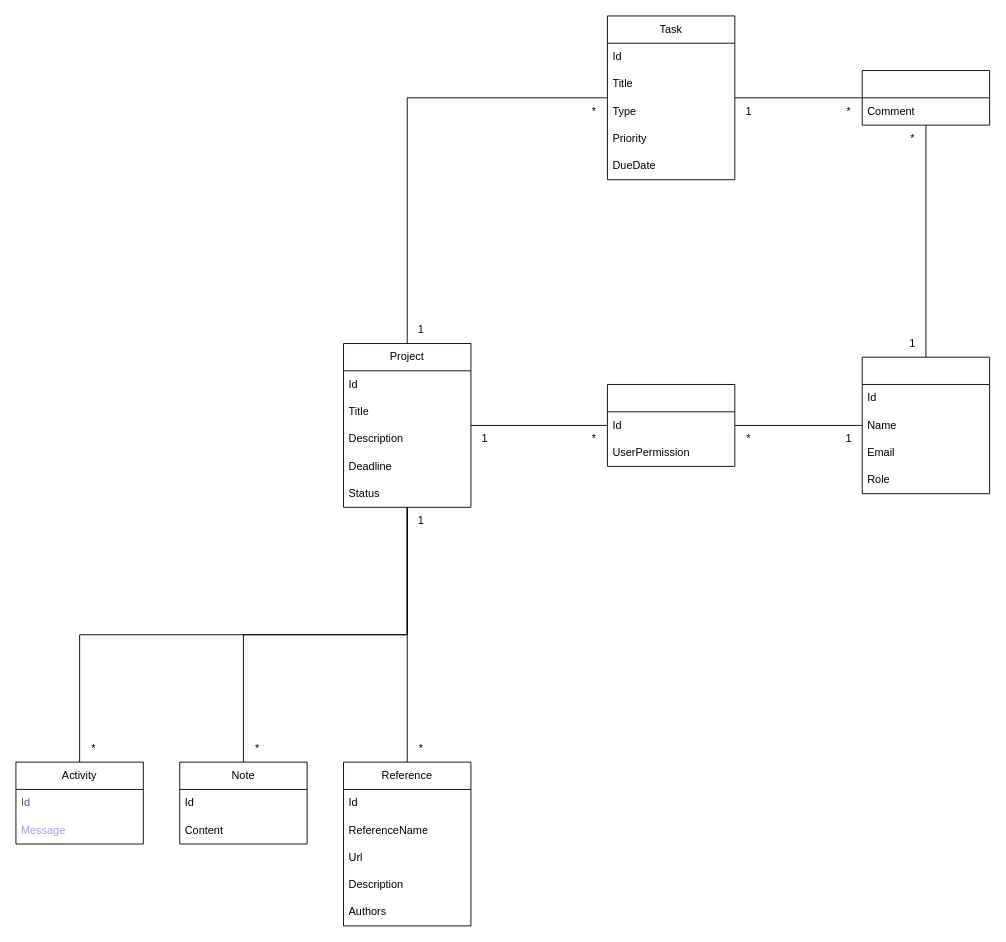
The diagram is 1006 pixels wide and 942 high, and some of its shapes have lost their labels. The shapes that lost their labels are listed below. From the top down, each one's box as (x1, y1, x2, y2) in pixels, then its label:
(861, 70, 990, 125): UserTask
(607, 384, 735, 466): ProjectUser
(861, 356, 990, 494): User
